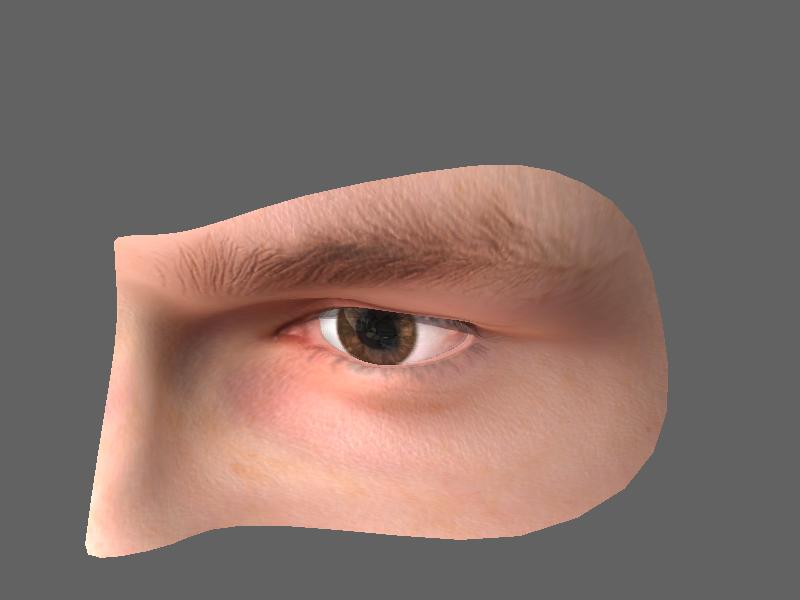iris: (336, 305, 420, 369)
